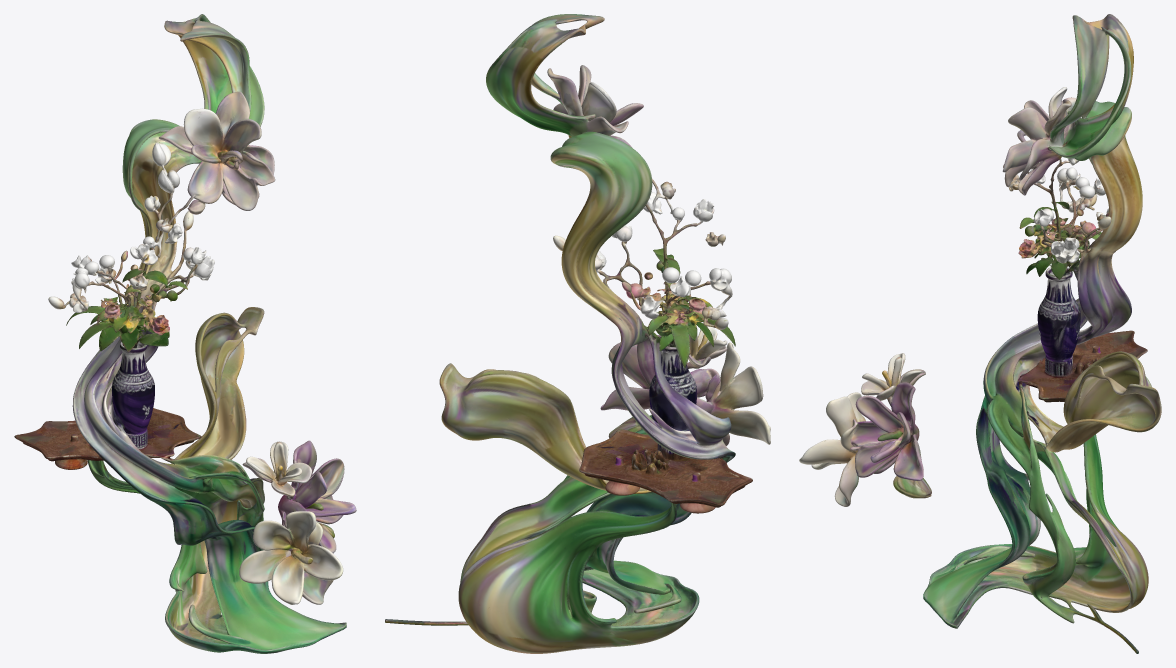
File: Meshy_AI_11_0426124731_texture-v1.glb
The picture shows the model from 3 angles, left to right: view 1: azimuth 30°, elevation 25°; view 2: azimuth 150°, elevation 25°; view 3: azimuth 270°, elevation 25°; orthographic projection. The views are drawn at different scales.
Parts seen in each view (by area): view 1: Mesh_0; view 2: Mesh_0; view 3: Mesh_0.
Boxes of the visible parts, <box> form: Mesh_0: <box>14,14,356,653</box>; Mesh_0: <box>385,14,770,653</box>; Mesh_0: <box>799,14,1161,653</box>.
Bounding box in the file's own units: 0.5492 × 1 × 0.5744.
1 material, 1 textured.
